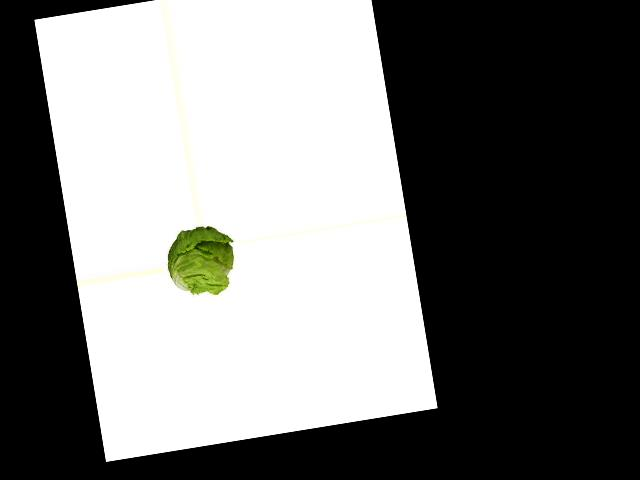lettuce: (160, 222, 239, 299)
